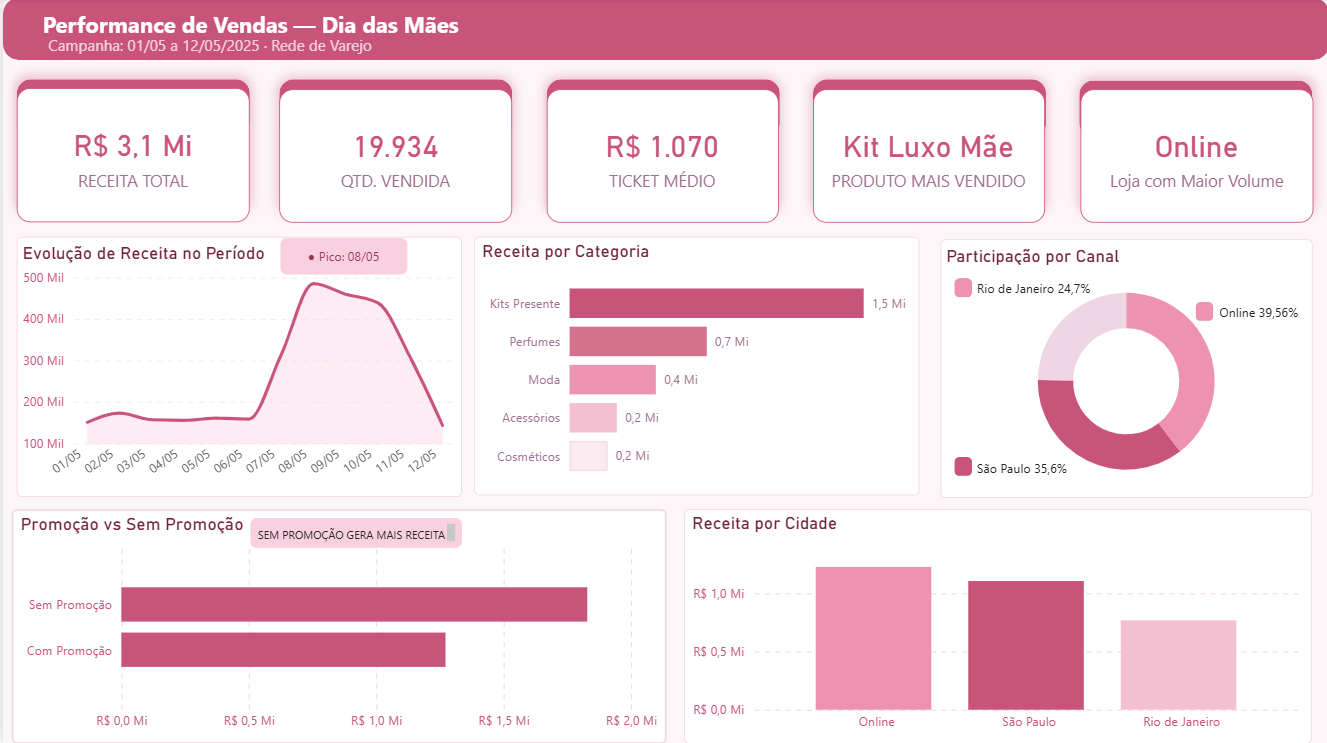

What the dashboard file says about the page in this screenshot:
{"tool":"powerbi","page":{"name":"Visão Geral","canvas":[1280,720],"ordinal":0},"visuals":[{"type":"shape","box":[1038.8,79.4,225.1,54.8],"z":0},{"type":"shape","box":[782,77.9,225.1,56.3],"z":1000},{"type":"shape","box":[525.2,77.9,225.1,56.3],"z":2000},{"type":"shape","box":[266.9,77.9,225.1,56.3],"z":3000},{"type":"shape","box":[13,77.9,225.1,54.8],"z":4000},{"type":"shape","box":[0,0,1280,59.7],"z":5000},{"type":"textbox","box":[0,6,483.8,39.8],"z":6000},{"type":"textbox","box":[0,30.3,399.6,30.3],"z":7000},{"type":"card","fields":{"Values":["_Medidas.RECEITA TOTAL"]},"box":[13,86.6,225.1,129.8],"z":8000},{"type":"card","fields":{"Values":["_Medidas.QTD. VENDIDA"]},"box":[266.9,88,225.1,128.4],"z":9000},{"type":"card","fields":{"Values":["_Medidas.TICKET MÉDIO"]},"box":[525.2,88,223.6,128.4],"z":10000},{"type":"card","fields":{"Values":["_Medidas.PRODUTO MAIS VENDIDO"]},"box":[782,88,223.6,128.4],"z":11000},{"type":"card","fields":{"Values":["_Medidas.CANAL LIDER"]},"box":[1040.2,88,225.1,128.4],"z":12000},{"type":"lineChart","title":"Evolução de Receita no Período","fields":{"Category":["fato_vendas.data"],"Y":["_Medidas.RECEITA TOTAL"]},"box":[13,230.8,429.9,251],"z":13000},{"type":"textbox","box":[267.4,231.8,122.3,35.6],"z":14000},{"type":"clusteredBarChart","title":"Receita por Categoria","fields":{"Category":["dim_produtos.categoria"],"Y":["_Medidas.RECEITA TOTAL"]},"box":[454.5,230.8,429.9,249.6],"z":15000},{"type":"donutChart","title":"Participação por Canal","fields":{"Category":["dim_lojas.cidade"],"Y":["_Medidas.RECEITA TOTAL"]},"box":[904.6,232.3,359.2,249.6],"z":16000},{"type":"textbox","box":[1168.6,288.6,95.2,27.4],"z":17000},{"type":"shape","box":[917.6,442.9,17.3,18.8],"z":18000},{"type":"shape","box":[1151.3,292.9,17.3,18.8],"z":19000},{"type":"textbox","box":[934.9,438.6,119.7,27.4],"z":20000},{"type":"clusteredBarChart","title":"Promoção vs Sem Promoção","fields":{"Category":["fato_vendas.Promocao_Label"],"Y":["_Medidas.RECEITA TOTAL"]},"box":[8.7,493.4,631.9,226.5],"z":21000},{"type":"textbox","box":[238.9,501.9,203.9,29],"z":22000},{"type":"columnChart","title":" Receita por Cidade","fields":{"Category":["dim_lojas.cidade"],"Y":["_Medidas.RECEITA TOTAL"]},"box":[657.9,493.4,606,226.5],"z":23000},{"type":"shape","box":[917.6,269.8,17.3,18.8],"z":23001},{"type":"textbox","box":[934.9,265.5,150,27.4],"z":23002}]}

Visuals, with their boxes in screenshot pixels (x1, y1, x2, y2), scaled from the page's 1280x720 canvas onto the 1327x743 screenshot:
shape: box(1077, 82, 1310, 138)
shape: box(811, 80, 1044, 138)
shape: box(544, 80, 778, 138)
shape: box(277, 80, 510, 138)
shape: box(13, 80, 247, 137)
shape: box(0, 0, 1326, 62)
textbox: box(0, 6, 502, 47)
textbox: box(0, 31, 414, 63)
card - _Medidas.RECEITA TOTAL: box(13, 89, 247, 223)
card - _Medidas.QTD. VENDIDA: box(277, 91, 510, 223)
card - _Medidas.TICKET MÉDIO: box(544, 91, 776, 223)
card - _Medidas.PRODUTO MAIS VENDIDO: box(811, 91, 1043, 223)
card - _Medidas.CANAL LIDER: box(1078, 91, 1312, 223)
"Evolução de Receita no Período" lineChart: box(13, 238, 459, 497)
textbox: box(277, 239, 404, 276)
"Receita por Categoria" clusteredBarChart: box(471, 238, 917, 496)
"Participação por Canal" donutChart: box(938, 240, 1310, 497)
textbox: box(1212, 298, 1310, 326)
shape: box(951, 457, 969, 476)
shape: box(1194, 302, 1212, 322)
textbox: box(969, 453, 1093, 481)
"Promoção vs Sem Promoção" clusteredBarChart: box(9, 509, 664, 742)
textbox: box(248, 518, 459, 548)
" Receita por Cidade" columnChart: box(682, 509, 1310, 742)
shape: box(951, 278, 969, 298)
textbox: box(969, 274, 1125, 302)
